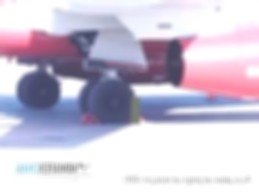chock: (78, 111, 100, 124), (126, 111, 145, 124)
wheel: (88, 78, 136, 125), (15, 71, 63, 110)
